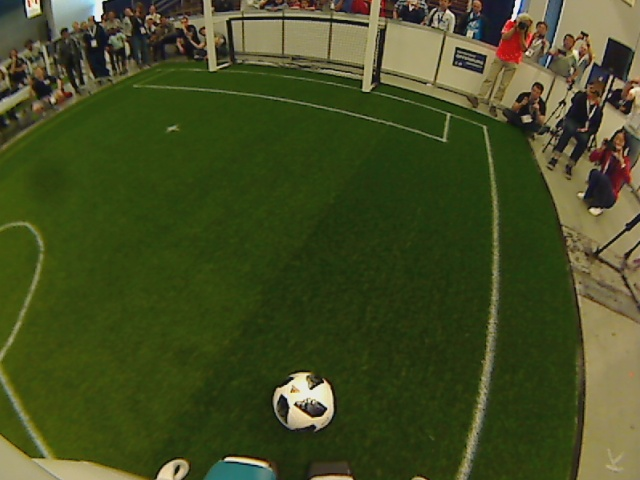ball: (269, 369, 339, 434)
